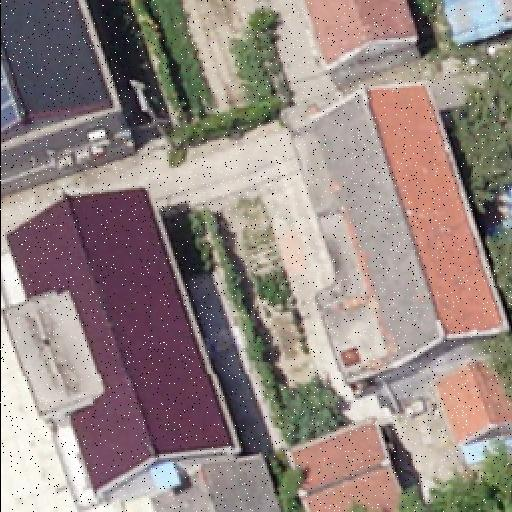solar-panel: (0, 44, 30, 140)
